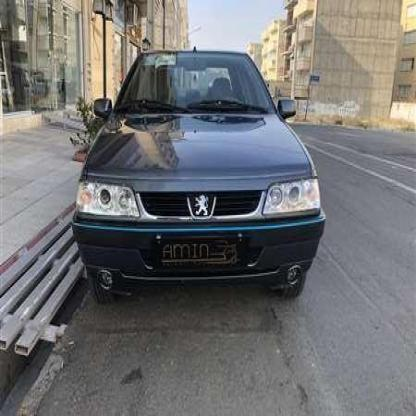Car: (71, 49, 330, 312)
